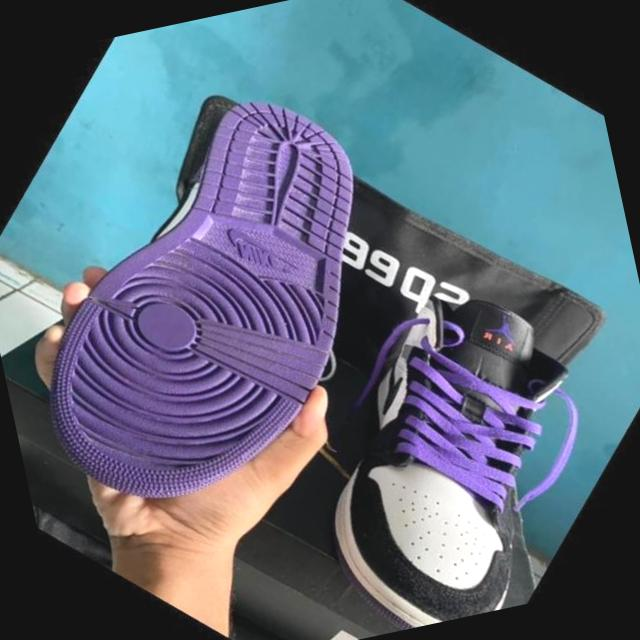nike_fake_jordan: (214, 225, 640, 640)
nike_original_jordan: (0, 22, 482, 508)
